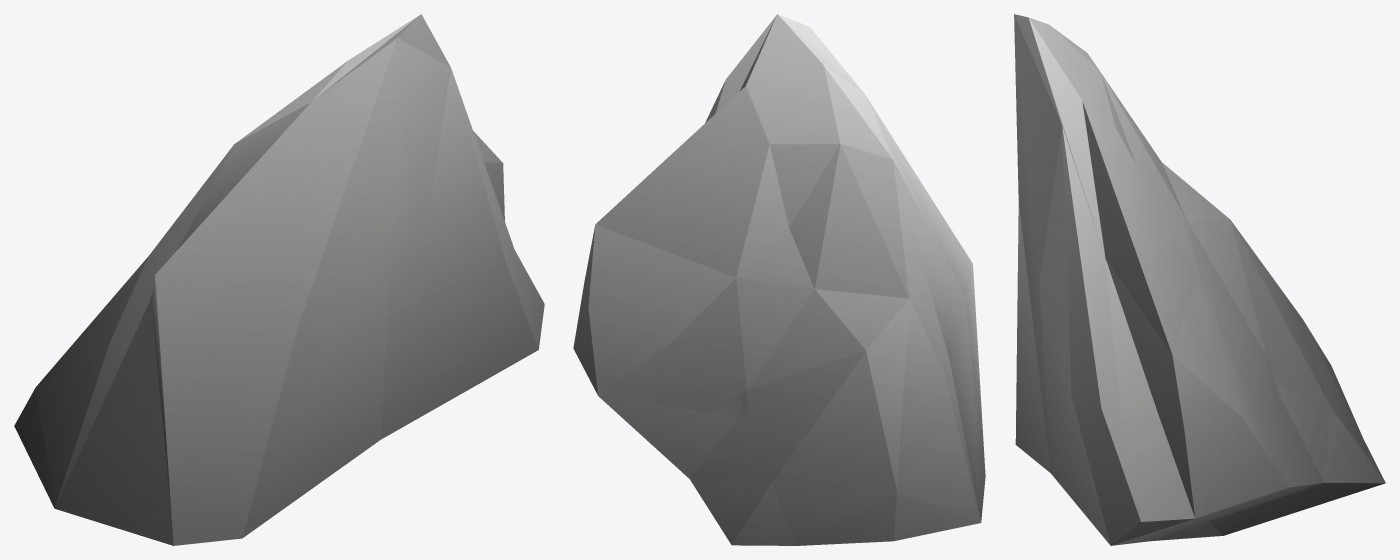
3 views of the same model, side by side, from view 1: azimuth 30°, elevation 25°; view 2: azimuth 150°, elevation 25°; view 3: azimuth 270°, elevation 25° (orthographic). The views are drawn at different scales.
Visible parts, largest first — view 1: SharpRock2; view 2: SharpRock2; view 3: SharpRock2.
Boxes of the visible parts, bbox=[...] form: SharpRock2: bbox=[14, 14, 544, 545]; SharpRock2: bbox=[573, 14, 985, 545]; SharpRock2: bbox=[1014, 14, 1385, 545].
Bounding box in the file's own units: 2.98 × 2.97 × 1.82.
Materials: 1 (1 with a texture image).
